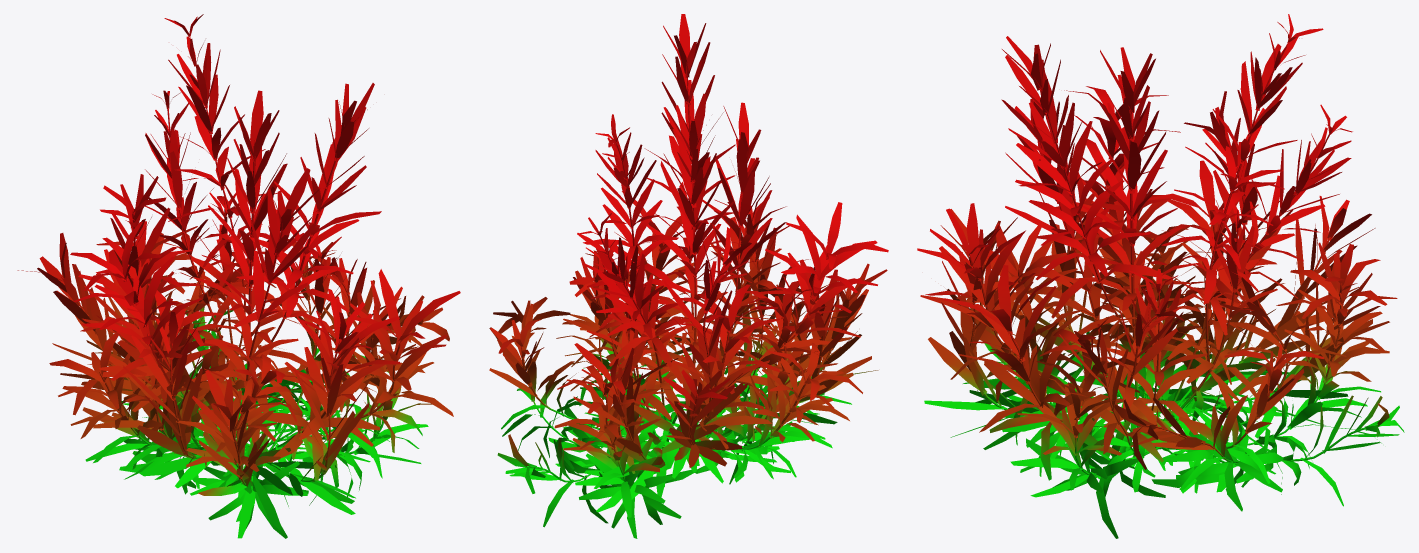
The model's file is Var4_LOD2.fbx.
The picture shows the model from 3 angles, left to right: view 1: azimuth 30°, elevation 25°; view 2: azimuth 150°, elevation 25°; view 3: azimuth 270°, elevation 25°; orthographic projection. The views are drawn at different scales.
Parts seen in each view (by area): view 1: _i6zv_Var4_LOD2; view 2: _i6zv_Var4_LOD2; view 3: _i6zv_Var4_LOD2.
Boxes of the visible parts, bbox=[...] form: _i6zv_Var4_LOD2: bbox=[17, 14, 460, 538]; _i6zv_Var4_LOD2: bbox=[489, 14, 888, 538]; _i6zv_Var4_LOD2: bbox=[917, 14, 1404, 538].
Size of the model in its own units: 29.15 by 31.96 by 29.14.
